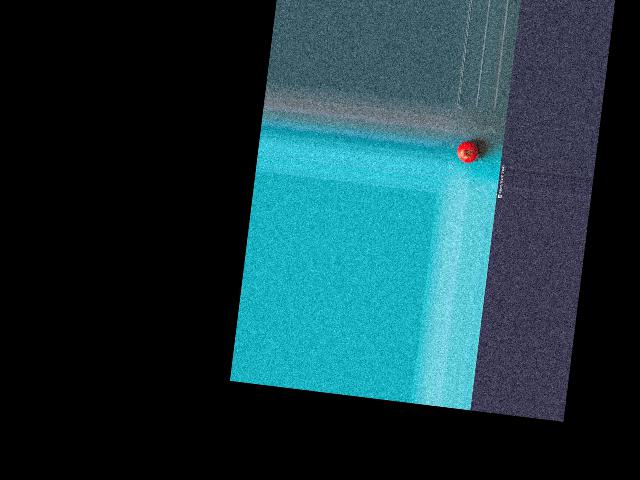tomato: (456, 140, 480, 163)
